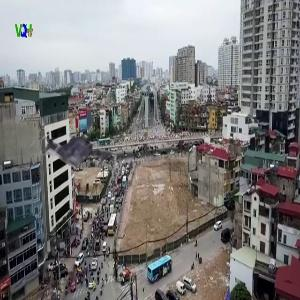drone: (34, 109, 121, 196)
